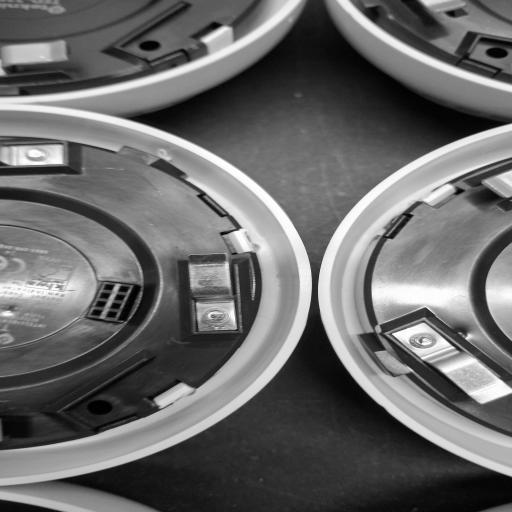konnektor: (78, 277, 155, 331)
yaysiz: (379, 302, 512, 420), (166, 236, 251, 349)
